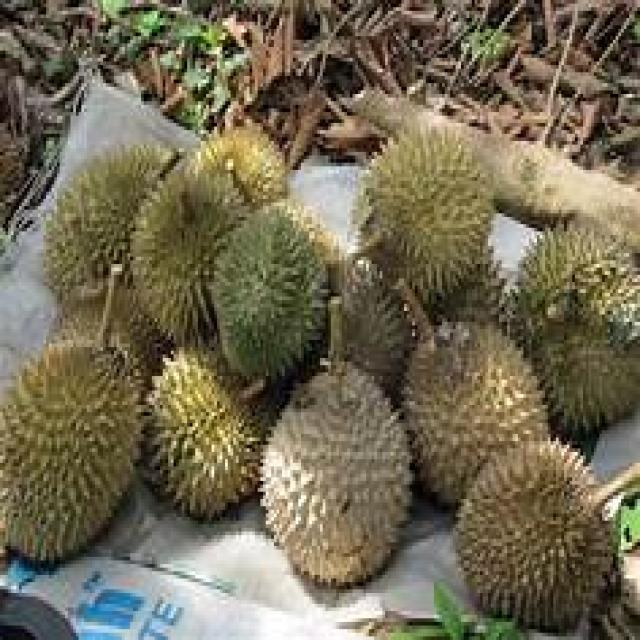mature: (261, 363, 411, 586), (458, 440, 610, 629), (404, 327, 549, 504)
